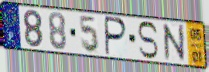5: (78, 14, 100, 54)
8: (22, 9, 44, 49), (48, 11, 69, 52)
N: (161, 22, 188, 63)
P: (105, 15, 129, 58)
S: (136, 20, 160, 61)
